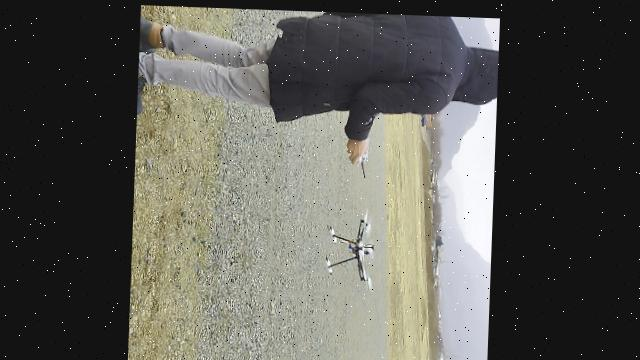drone: (324, 204, 378, 291)
